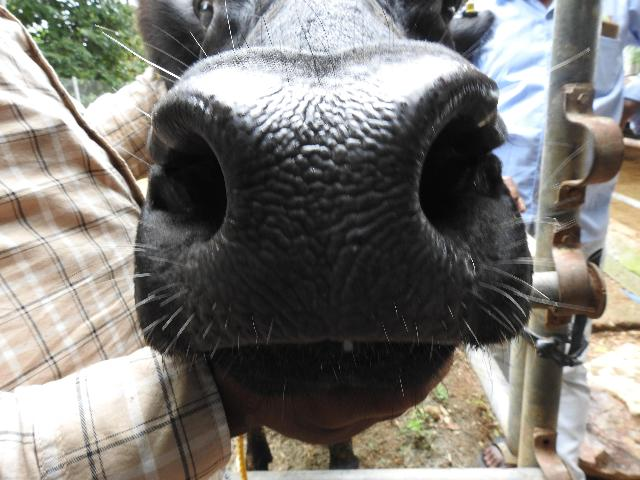Muzzle: (214, 85, 430, 329)
